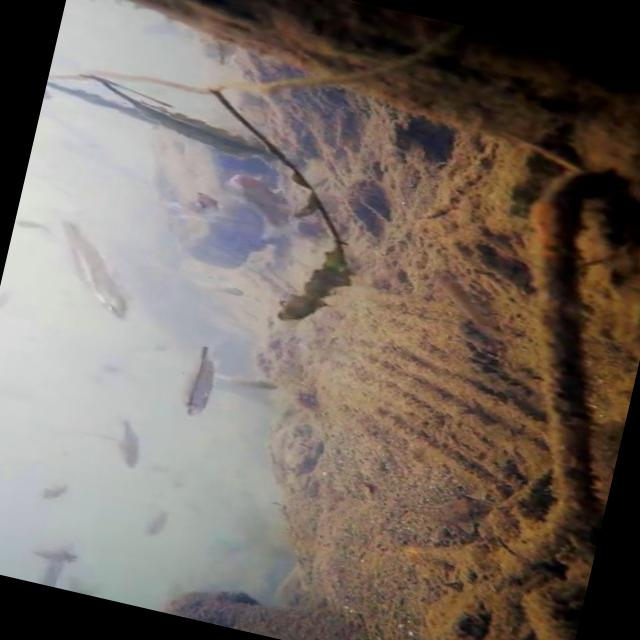Cakil Baligi: (39, 220, 142, 316), (164, 338, 229, 420), (104, 416, 152, 471), (212, 362, 280, 397), (142, 504, 174, 538)
